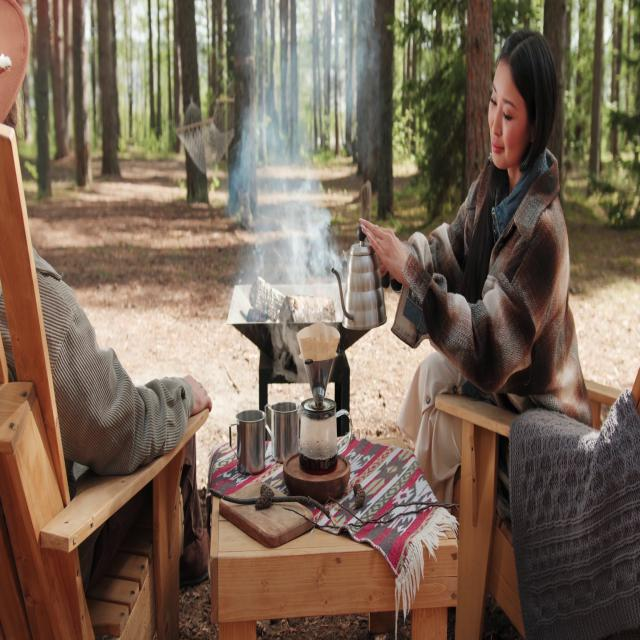Smoke: (219, 3, 372, 315)
